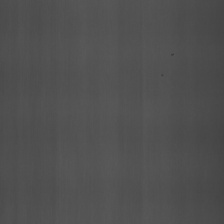inclusion: (169, 45, 179, 66), (161, 67, 166, 80)
